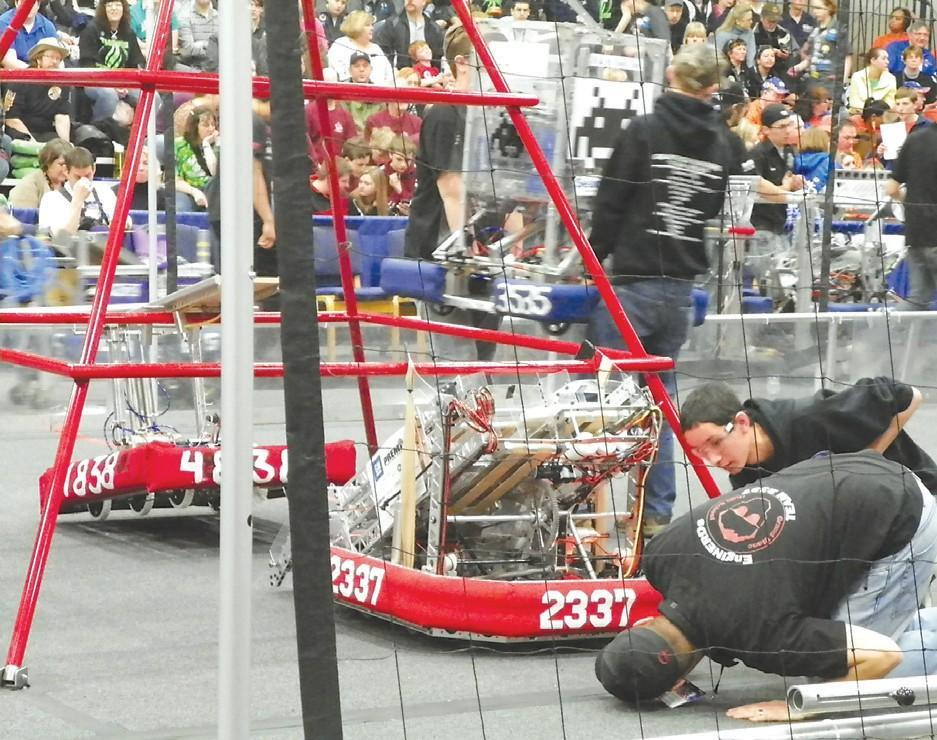robot: (260, 310, 682, 677), (39, 250, 360, 533)
